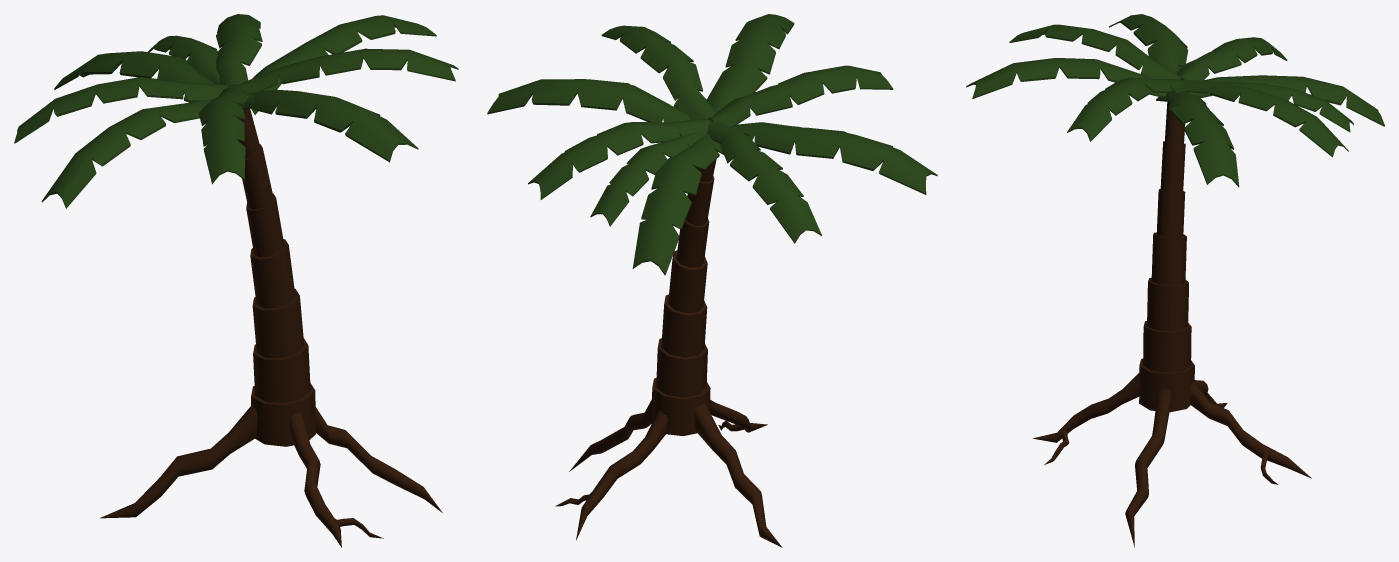
File: Grove_Model.fbx
3 renders of one model, left to right at view 1: azimuth 30°, elevation 25°; view 2: azimuth 150°, elevation 25°; view 3: azimuth 270°, elevation 25°, orthographic. The views are drawn at different scales.
Visible parts, largest first — view 1: Box001, Cylinder001, Cylinder008, Cylinder006, Cylinder005; view 2: Box001, Cylinder001, Cylinder008, Cylinder002, Cylinder006, Cylinder005; view 3: Box001, Cylinder001, Cylinder006, Cylinder002, Cylinder005.
Part boxes in pixels (left/top/right/bottom): Box001: left=14, top=14, right=458, bottom=208; Cylinder001: left=237, top=109, right=315, bottom=446; Cylinder008: left=100, top=406, right=257, bottom=518; Cylinder006: left=315, top=407, right=442, bottom=512; Cylinder005: left=289, top=413, right=341, bottom=547; Box001: left=487, top=14, right=937, bottom=275; Cylinder001: left=651, top=151, right=717, bottom=435; Cylinder008: left=694, top=403, right=782, bottom=547; Cylinder002: left=555, top=410, right=667, bottom=540; Cylinder006: left=569, top=399, right=651, bottom=471; Cylinder005: left=710, top=400, right=767, bottom=432; Box001: left=966, top=14, right=1384, bottom=187; Cylinder001: left=1139, top=101, right=1194, bottom=412; Cylinder006: left=1125, top=388, right=1171, bottom=547; Cylinder002: left=1190, top=382, right=1311, bottom=484; Cylinder005: left=1032, top=373, right=1139, bottom=442.
Size of the model in its own units: 1.42 by 1.38 by 1.54.
